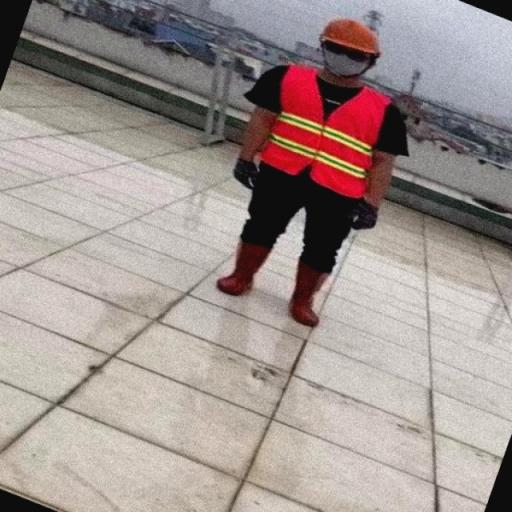Person: (210, 13, 416, 335)
boots: (280, 252, 346, 332), (218, 230, 270, 312)
gloves: (230, 143, 263, 198), (342, 202, 388, 238)
goggles: (313, 40, 387, 66)
helmet: (312, 23, 404, 54)
vest: (262, 53, 400, 199)
